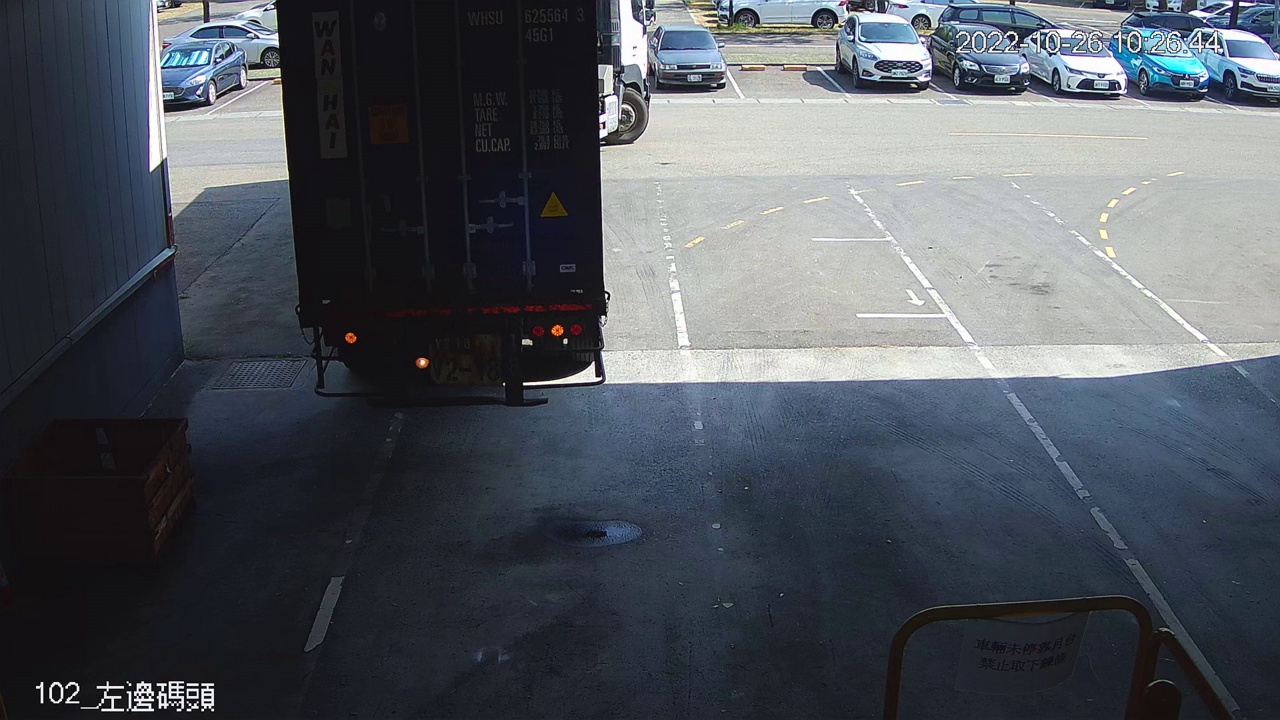container: (463, 2, 591, 50)
